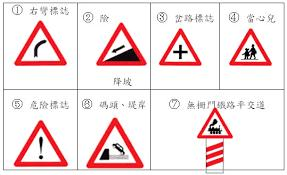fork_road: (156, 27, 202, 67)
